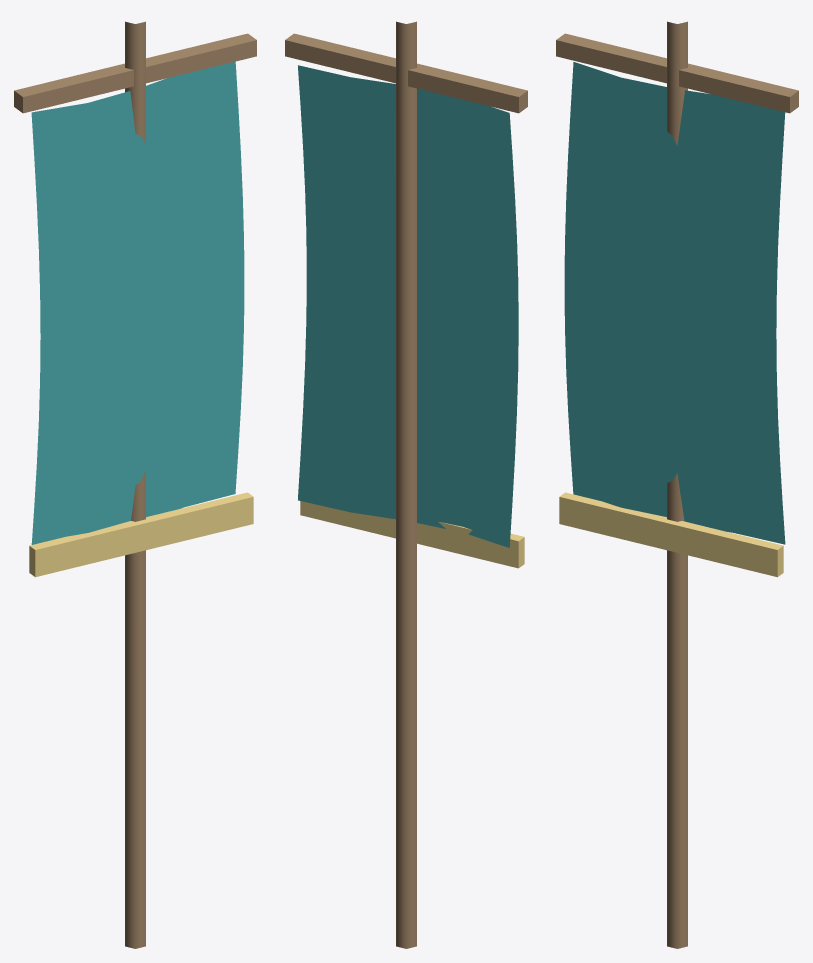
Rendered from BannerTeal.glb.
3 views of the same model, side by side, from view 1: azimuth 30°, elevation 25°; view 2: azimuth 150°, elevation 25°; view 3: azimuth 330°, elevation 25° (orthographic).
Visible parts, largest first — view 1: BannerTeal; view 2: BannerTeal; view 3: BannerTeal.
Boxes of the visible parts, bbox=[...] form: BannerTeal: bbox=[14, 21, 256, 948]; BannerTeal: bbox=[285, 21, 527, 948]; BannerTeal: bbox=[556, 21, 798, 948].
Size of the model in its own units: 0.9 by 3.4 by 0.1235.
